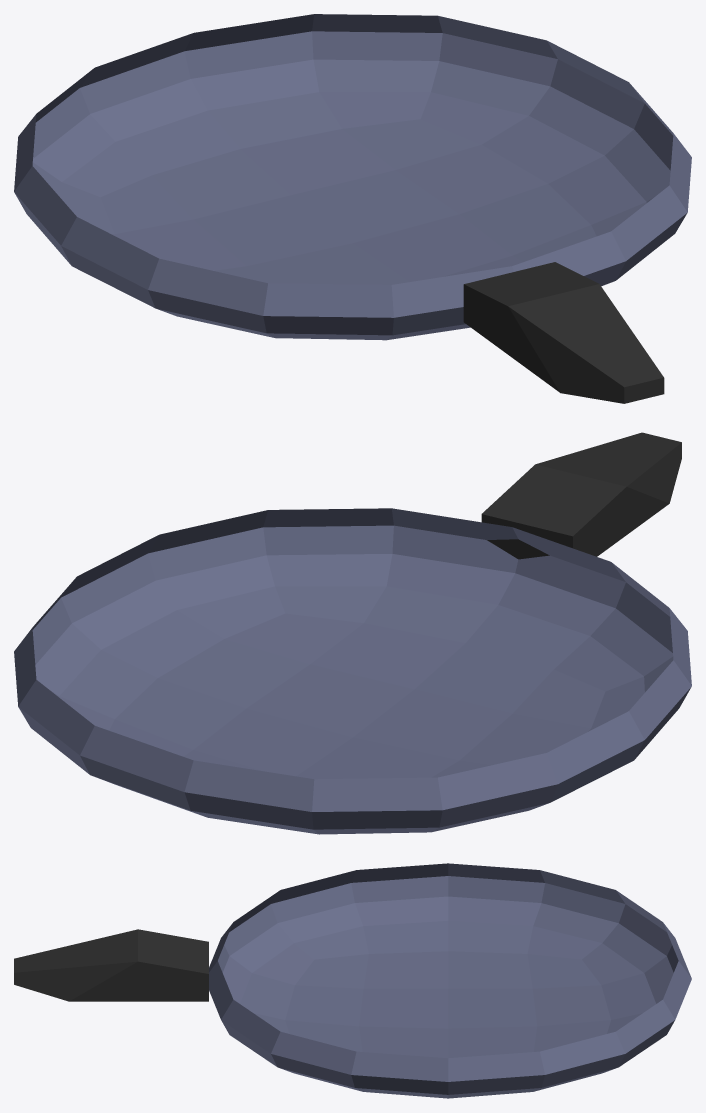
The model's file is Sarten.fbx.
3 views of the same model, one above another, from view 1: azimuth 30°, elevation 25°; view 2: azimuth 150°, elevation 25°; view 3: azimuth 270°, elevation 25° (orthographic). The views are drawn at different scales.
Parts seen in each view (by area): view 1: Cube, Cube.001; view 2: Cube, Cube.001; view 3: Cube, Cube.001.
Part boxes in pixels (x1,y1,x2,y2): Cube: (14,14,691,340); Cube.001: (463,262,664,403); Cube: (14,508,691,834); Cube.001: (481,432,681,559); Cube: (209,863,691,1098); Cube.001: (14,929,208,1001).
Size of the model in its own units: 1.82 by 0.3232 by 2.54.
